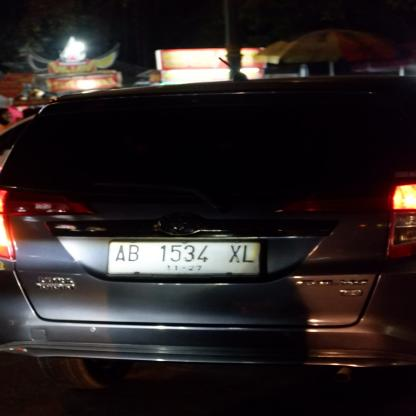Plat-Nomor: (100, 237, 272, 287)
